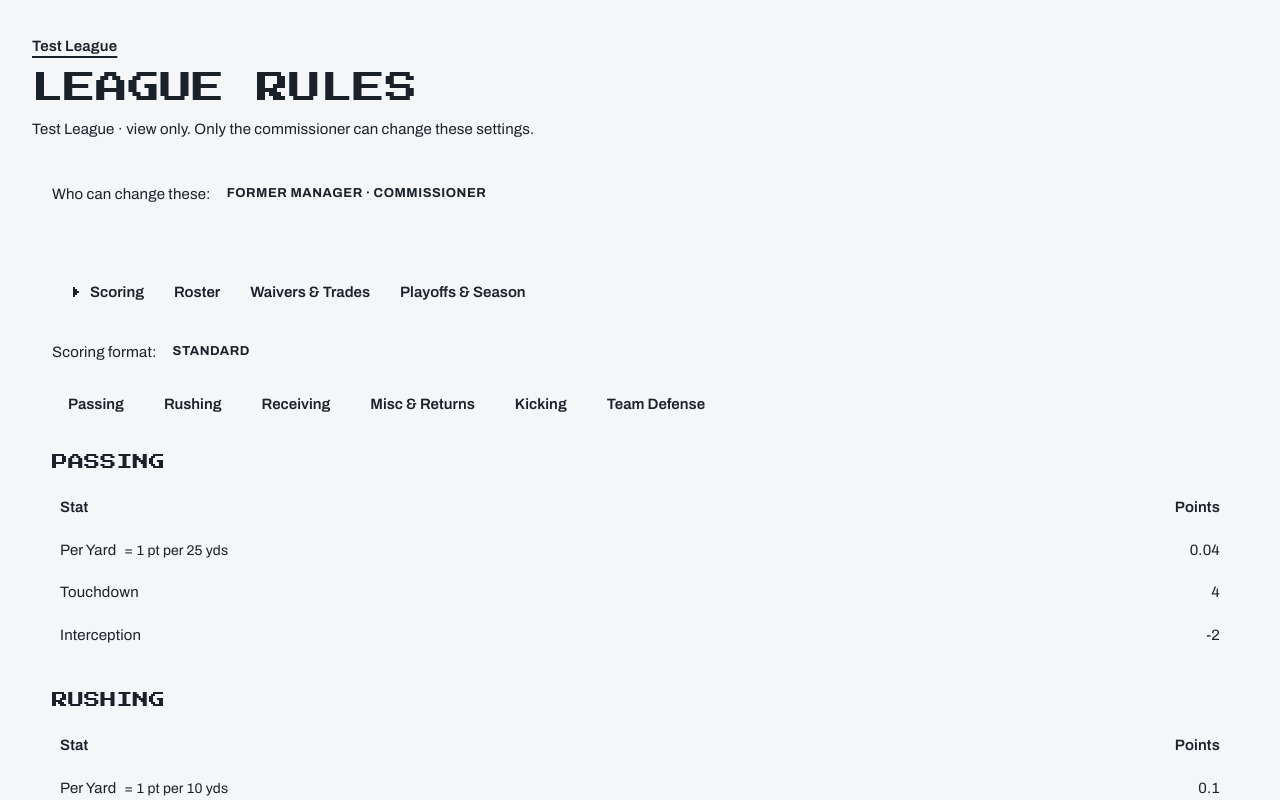
Test: LeagueRules › switches to the roster, waiver and playoff tabs
Expected: the element "Passing" is shown, [52,450,1228,656]
Click the tab "Roster" at (197, 292), box [158,270,236,314]
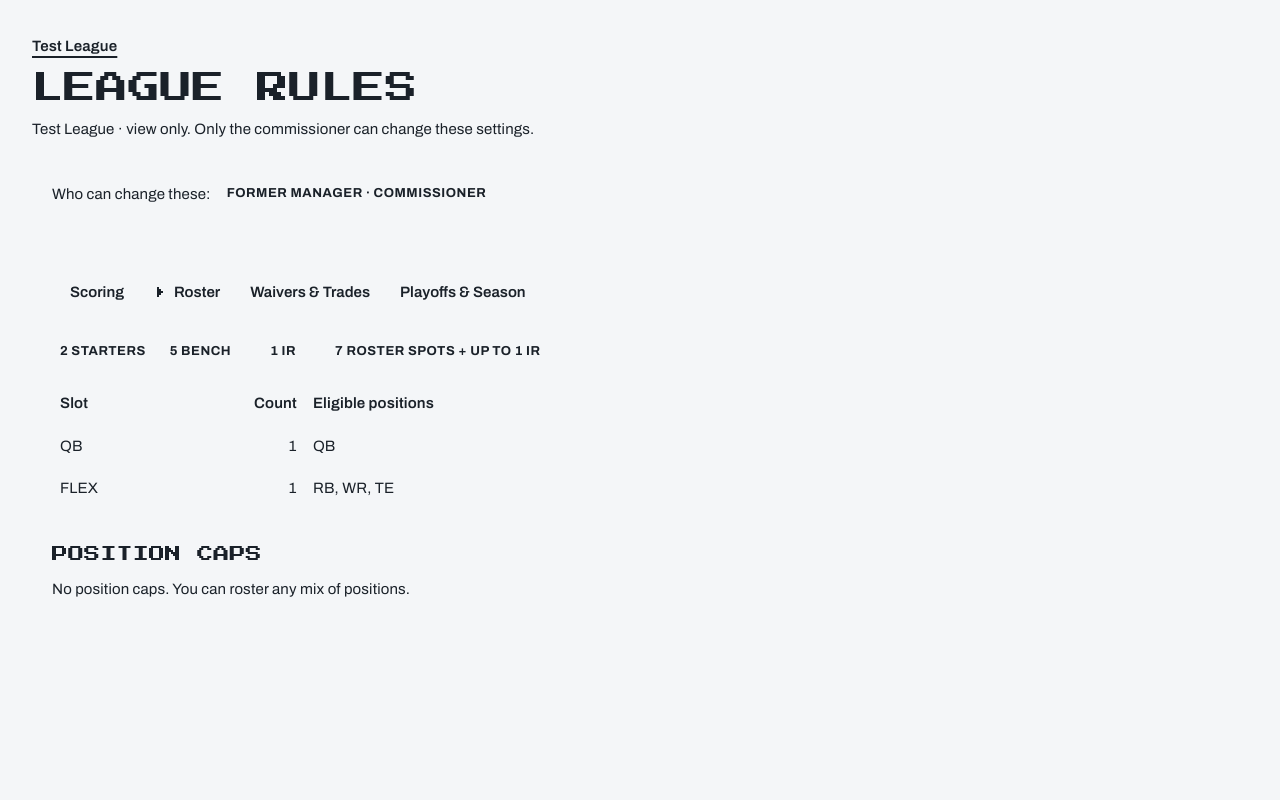
Expected: the text "7 roster spots + up to 1 IR" is shown, [335,344,540,358]
Expected: the text "FLEX" is shown, [52,467,173,510]
Click the tab "Waivers & Trades" at (310, 292), box [234,270,386,314]
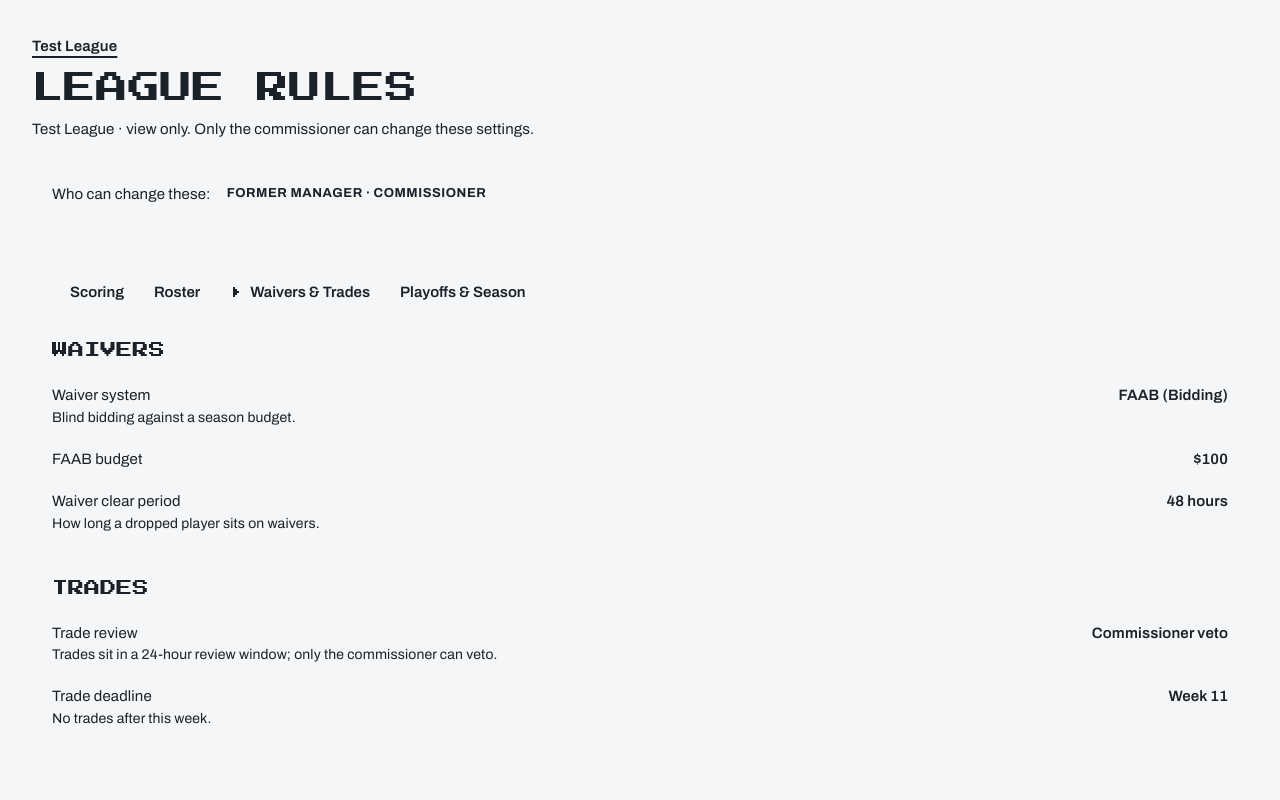
Expected: the text "FAAB (Bidding)" is shown, [1118,387,1228,403]
Expected: the text "Week 11" is shown, [1168,688,1228,704]
Click the tab "Playoffs & Season" at (463, 292), box [384,270,542,314]
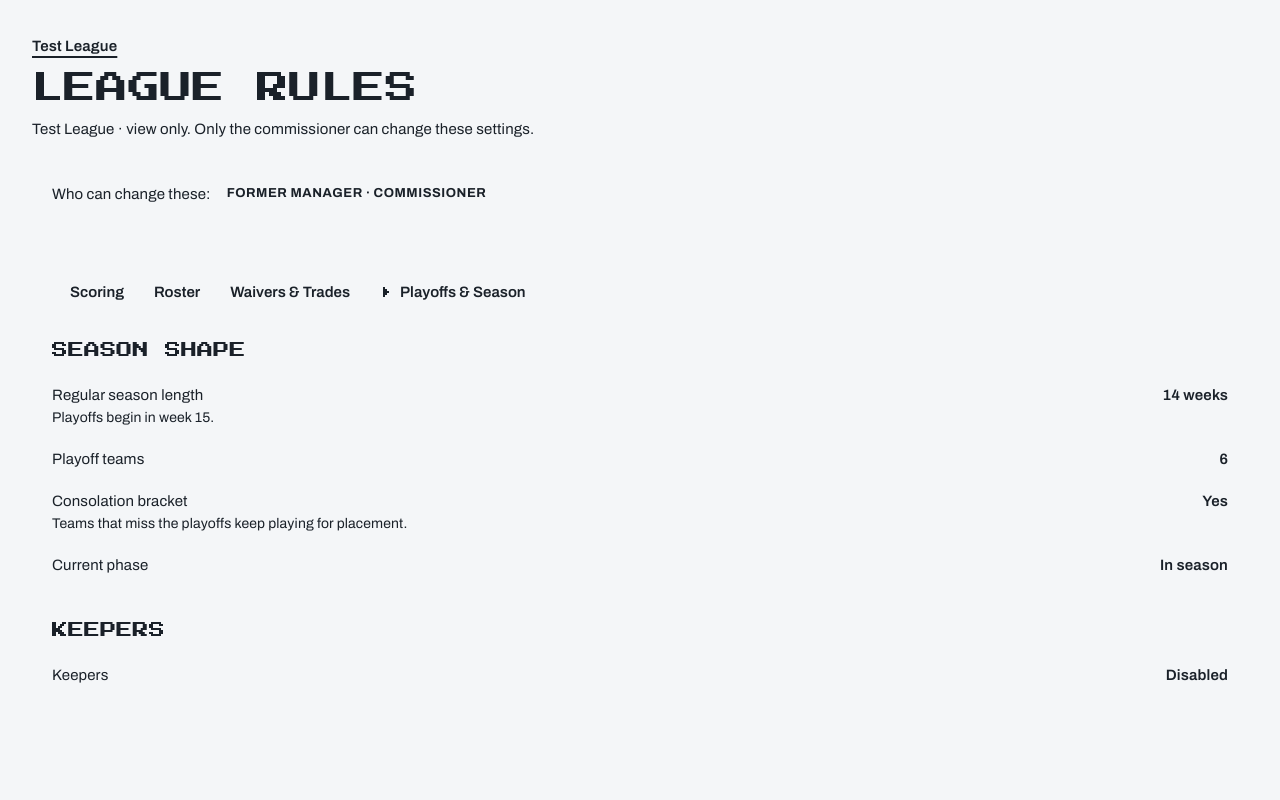
Expected: the text "14 weeks" is shown, [1162,387,1228,403]
Expected: the text "Disabled" is shown, [1166,664,1228,687]
